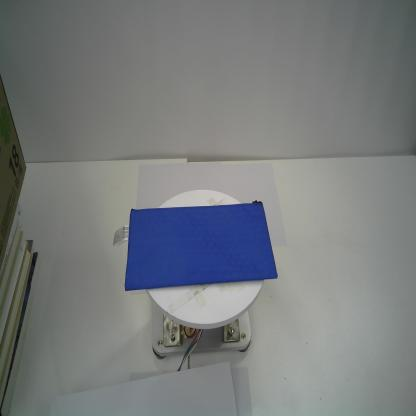Stationery: (121, 197, 280, 295)
